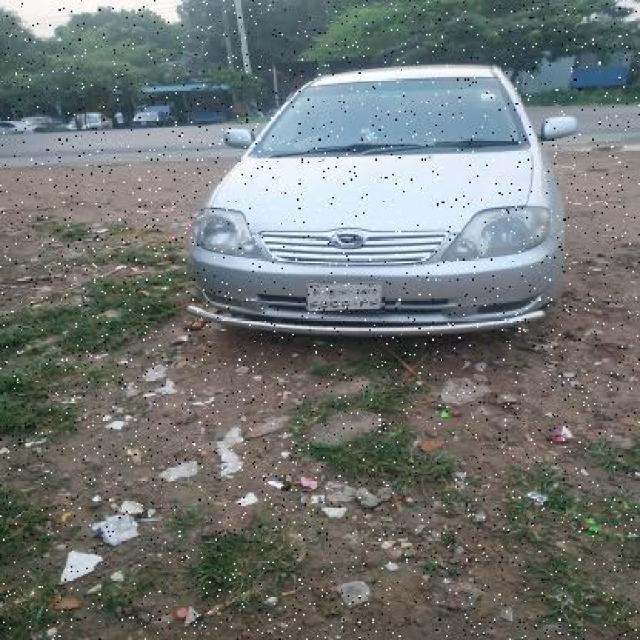numberplate: (306, 280, 385, 312)
